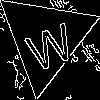W: (20, 14, 78, 73)
